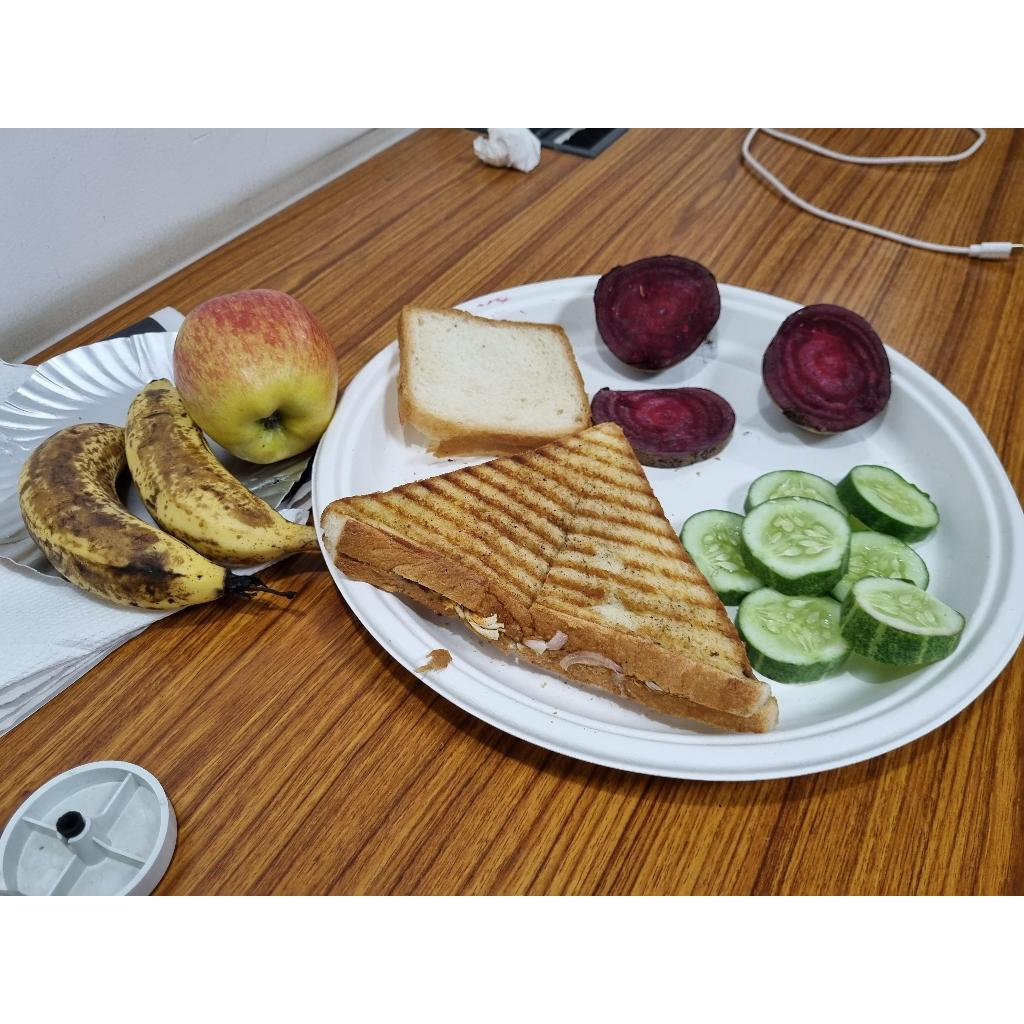apple: (172, 291, 346, 467)
banana: (22, 421, 233, 616), (120, 378, 315, 577)
cucumber: (841, 540, 964, 681), (741, 475, 854, 601), (732, 589, 854, 685), (677, 509, 774, 612), (844, 464, 942, 549)
